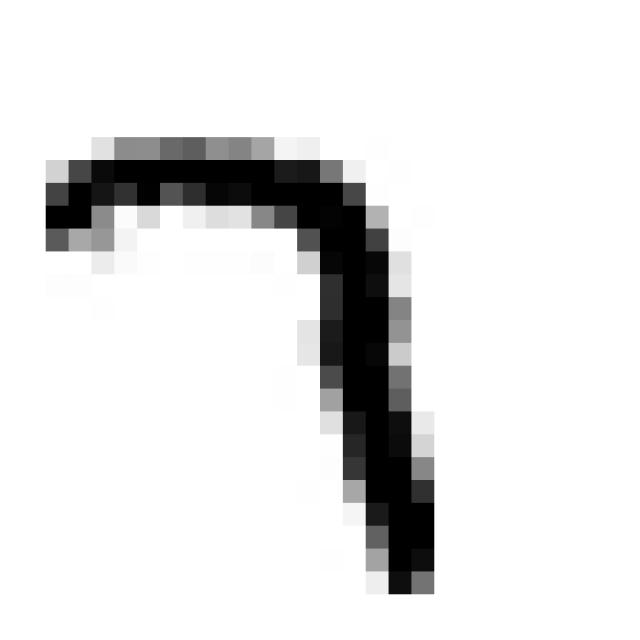6 -six-: (23, 117, 456, 616)
